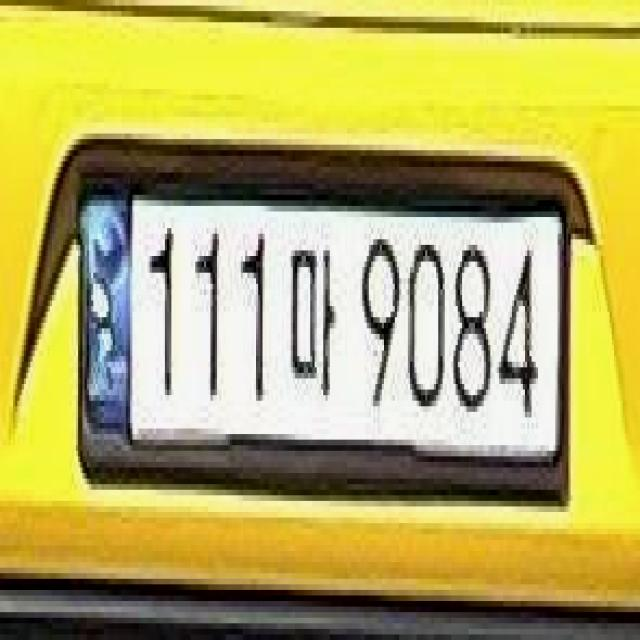illegal_plate: (77, 162, 568, 526)
